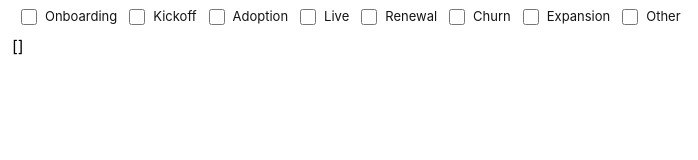
Test: ValueInput (plan Decision 2) › takes "is any of" a choice list as checkboxes
Click the checkbox labelled "Live".
click(308, 17)  # box [300,9,316,25]
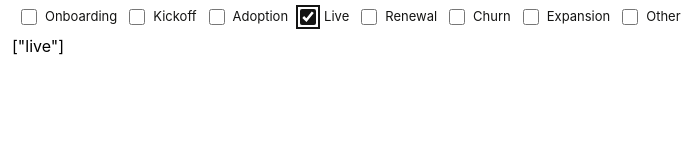
Click the checkbox labelled "Renewal".
click(369, 17)  # box [361,9,377,25]
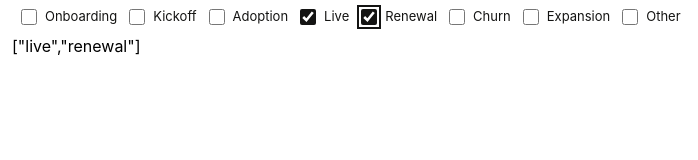
Expected: the text with test id "value" reads "[\"live\",\"renewal\"]", [12,36,140,56]
